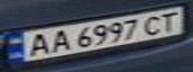6: (72, 24, 93, 49)
7: (121, 16, 145, 40)
9: (90, 21, 112, 46), (106, 19, 127, 43)
A: (18, 30, 54, 59), (45, 27, 75, 54)
C: (139, 12, 169, 36)
T: (154, 9, 187, 34)
